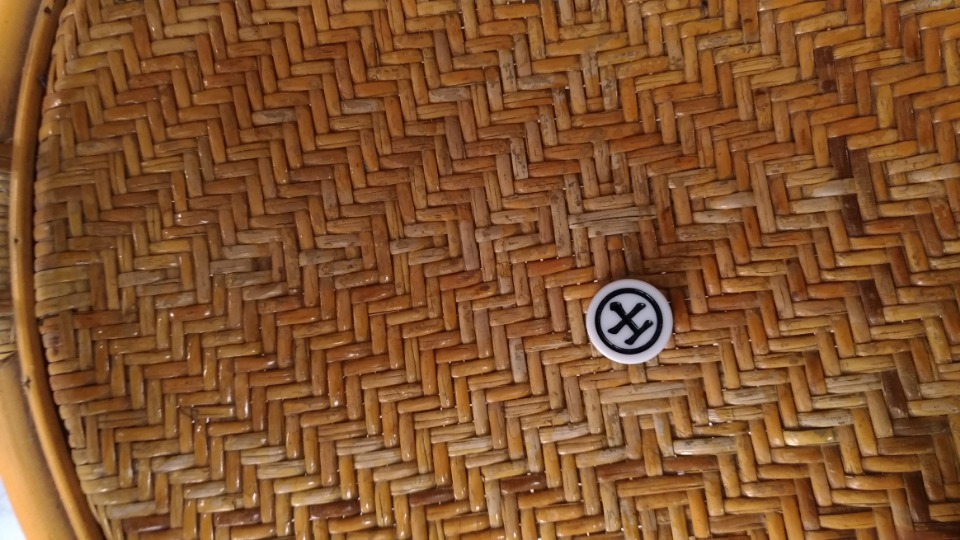b-advisor: (567, 274, 700, 367)
